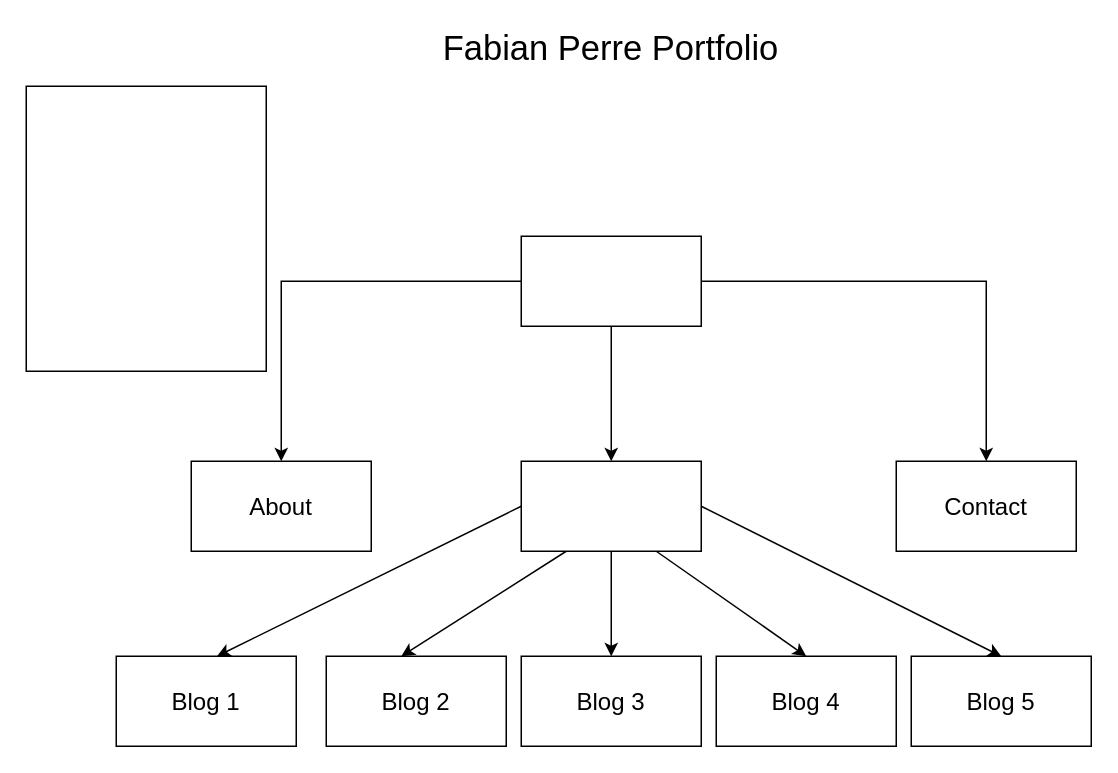
This 1118x773 diagram has some shape labels left out. The centre of each missing label's shape, as x and y in pixels:
"Blog" belongs at (610,505).
"Home" belongs at (610,280).
"Home About Blog Blog 1 Blog 2 Blog 3 Blog 4 Blog 5 Contact" belongs at (145,228).
